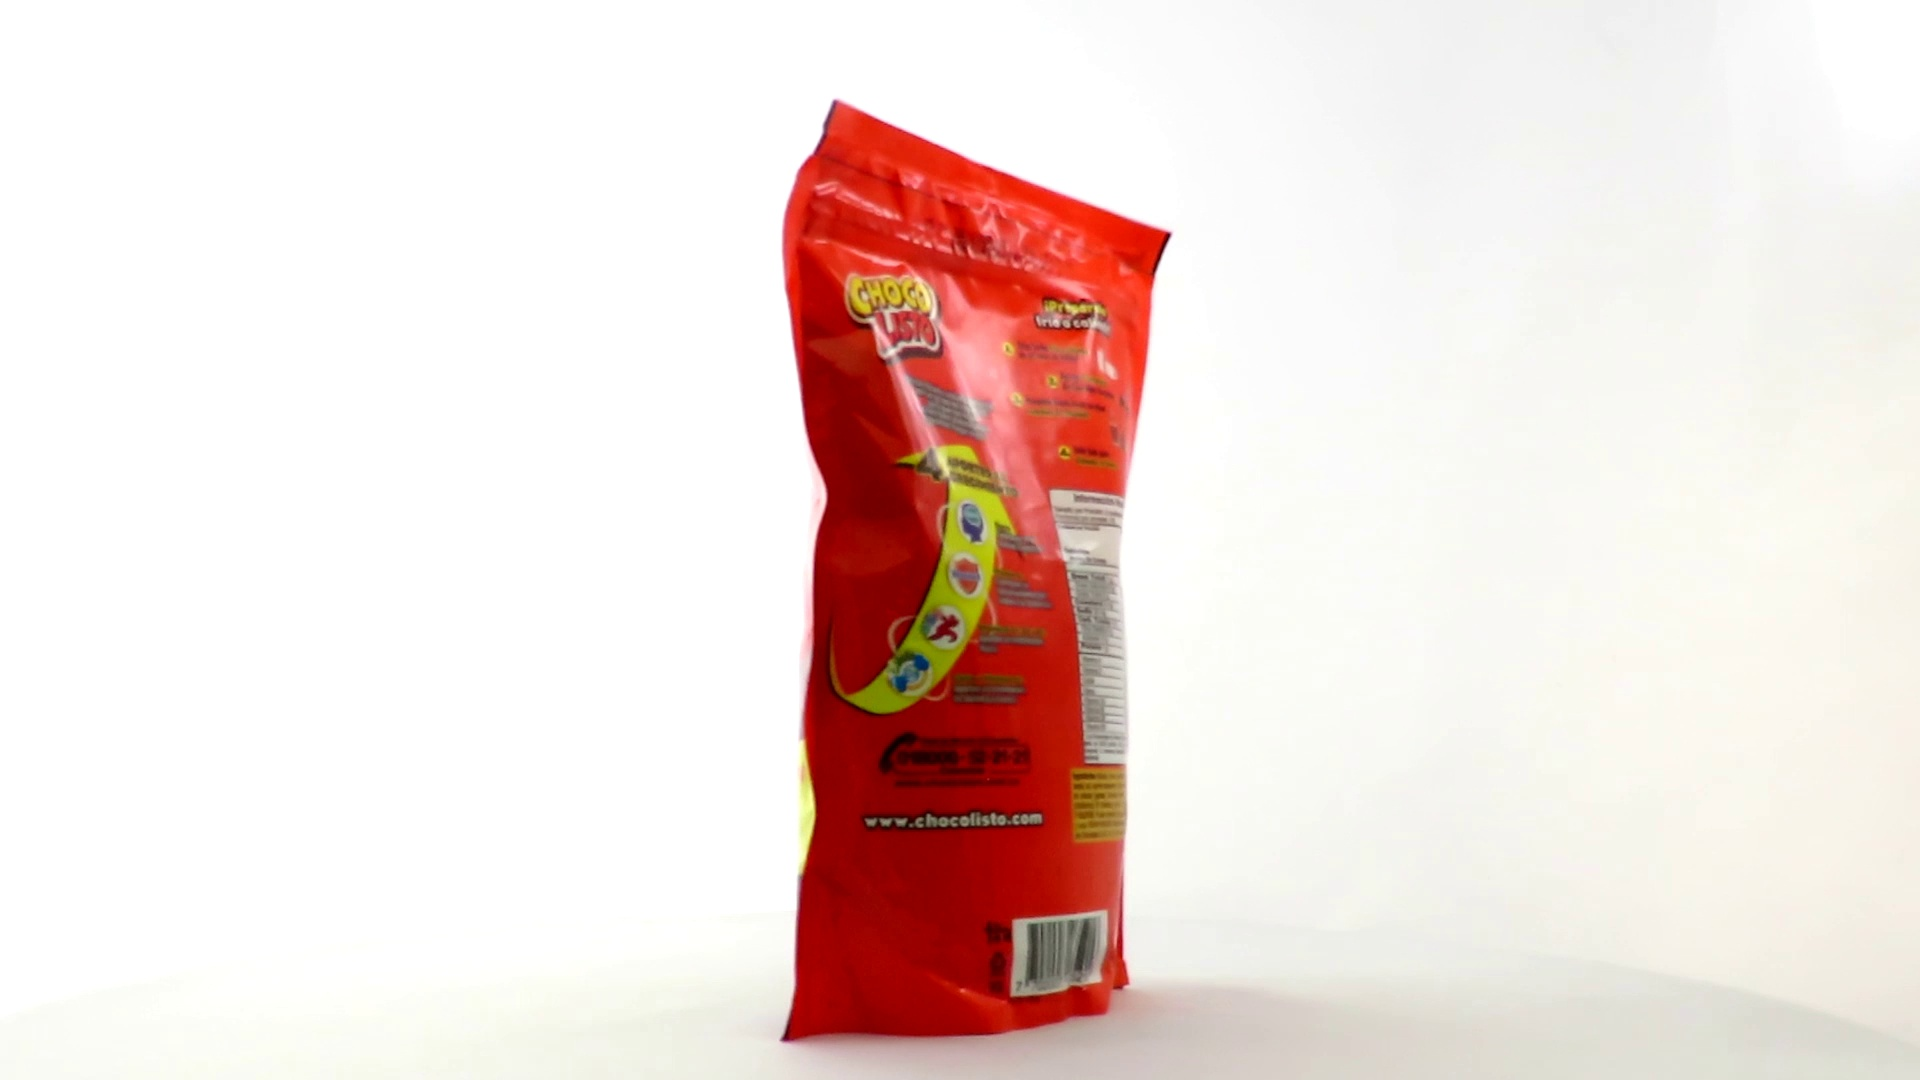COL0170103DYP36000: (775, 95, 1178, 1048)
